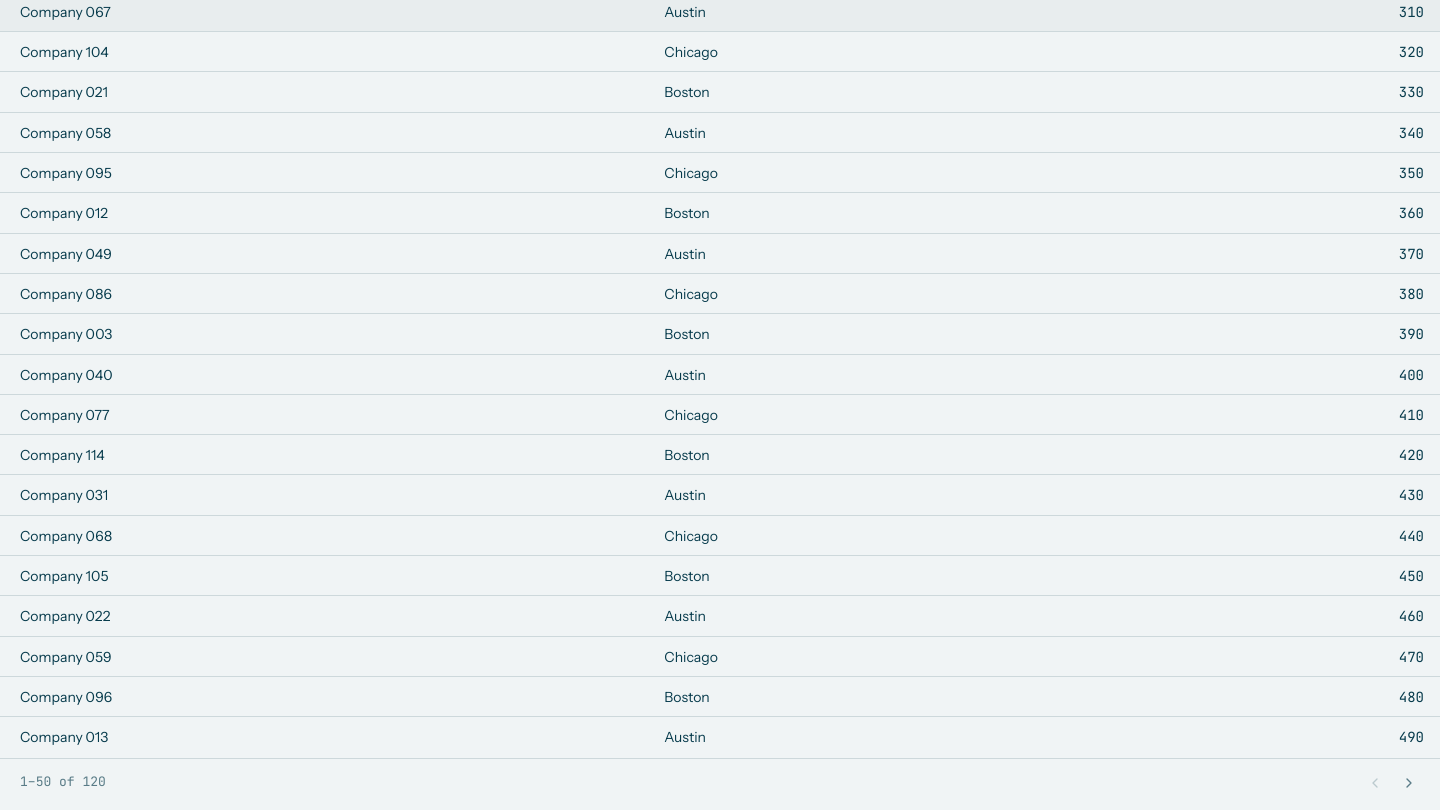
Scenario: DataTable › goes back to the first page when searching
(page scrolled)
Step 1. Click the button named "Next page" → (1409, 782), box left=1394, top=768, right=1424, bottom=798
(page scrolled)
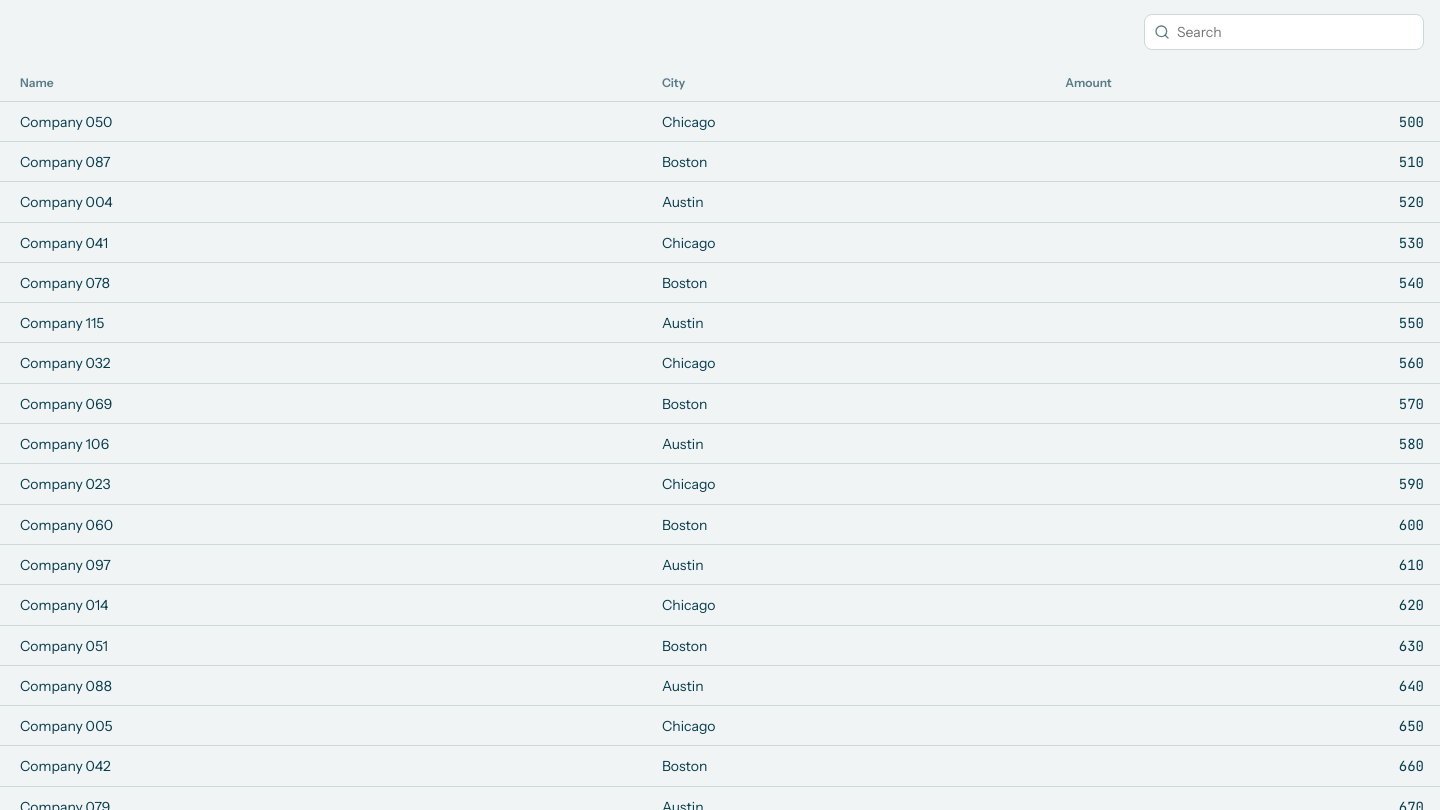
Step 2. Type "boston" into the search field → (1284, 32), box left=1144, top=14, right=1424, bottom=50
(page scrolled)
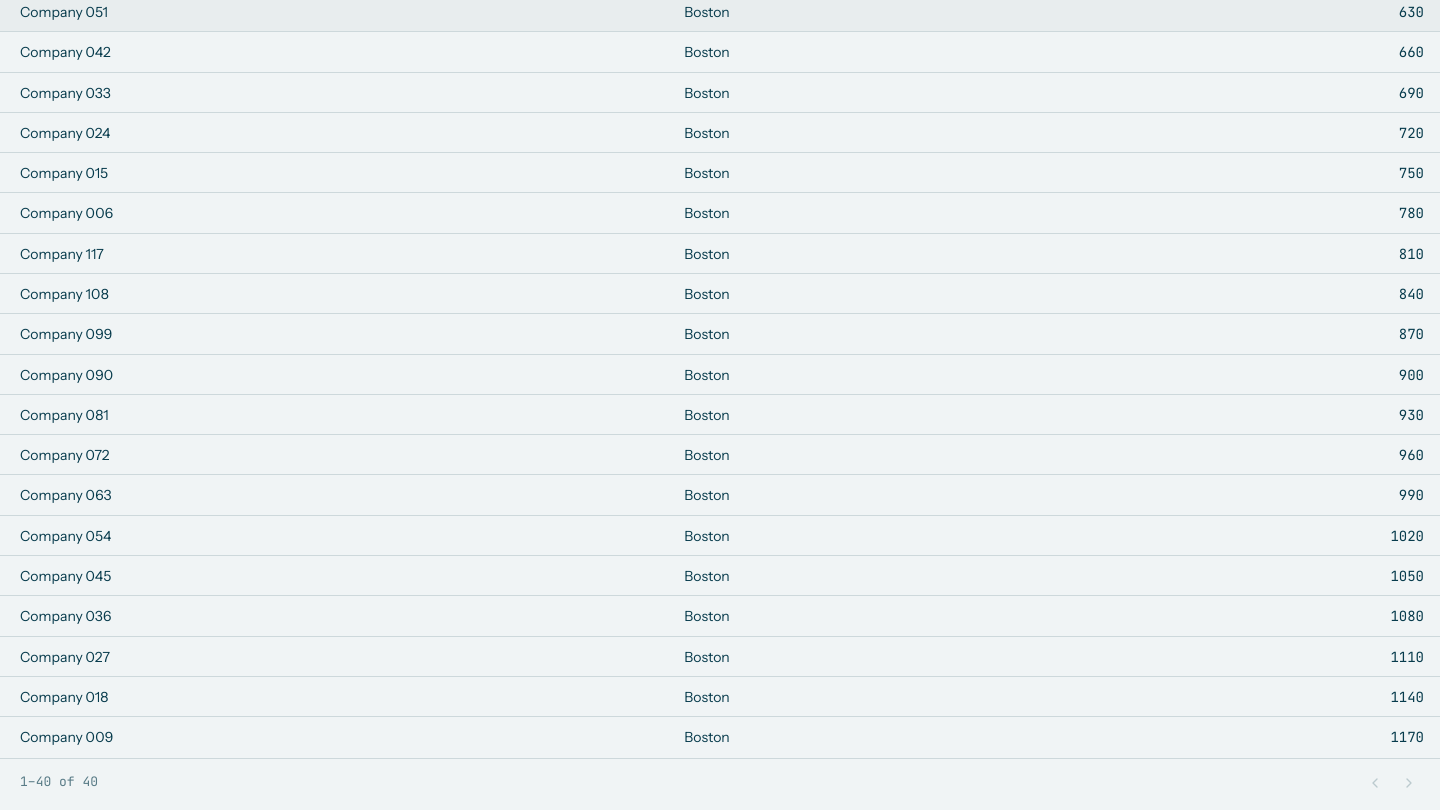
Expected: the text "1–40 of 40" is shown, left=20, top=773, right=98, bottom=792
